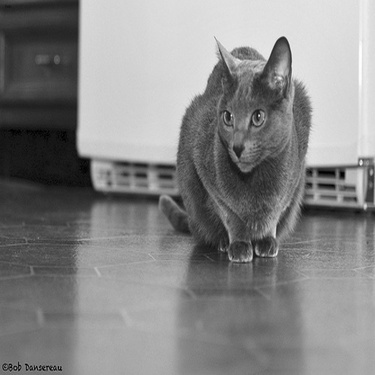cat: (152, 29, 314, 264)
